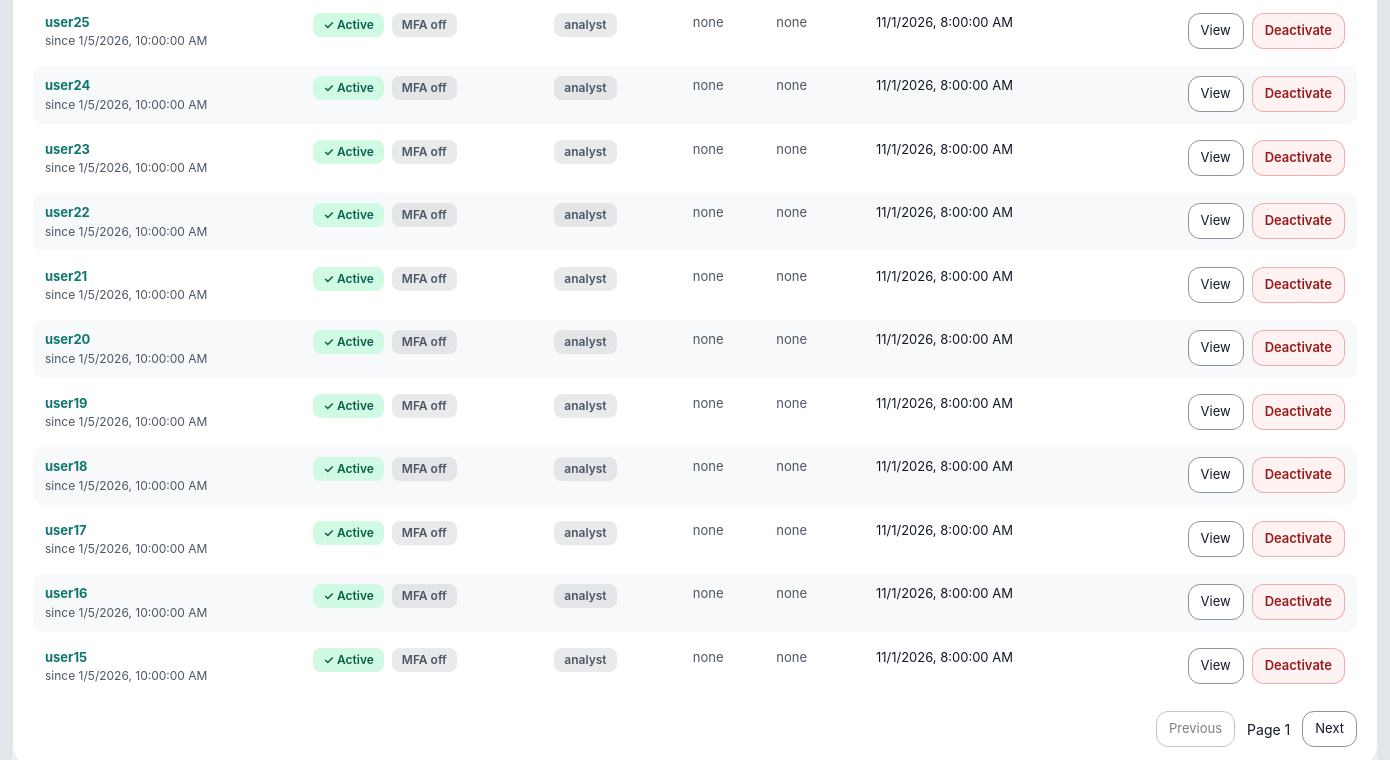
IAM users list › pages through results with Next and Previous
(page scrolled)
Expected: the link "user10" is not shown
What coordinates should you click on to do the following:
click the button "Next"
I would click on:
 (1330, 729)
Its box is [1302,711,1357,747].
(page scrolled)
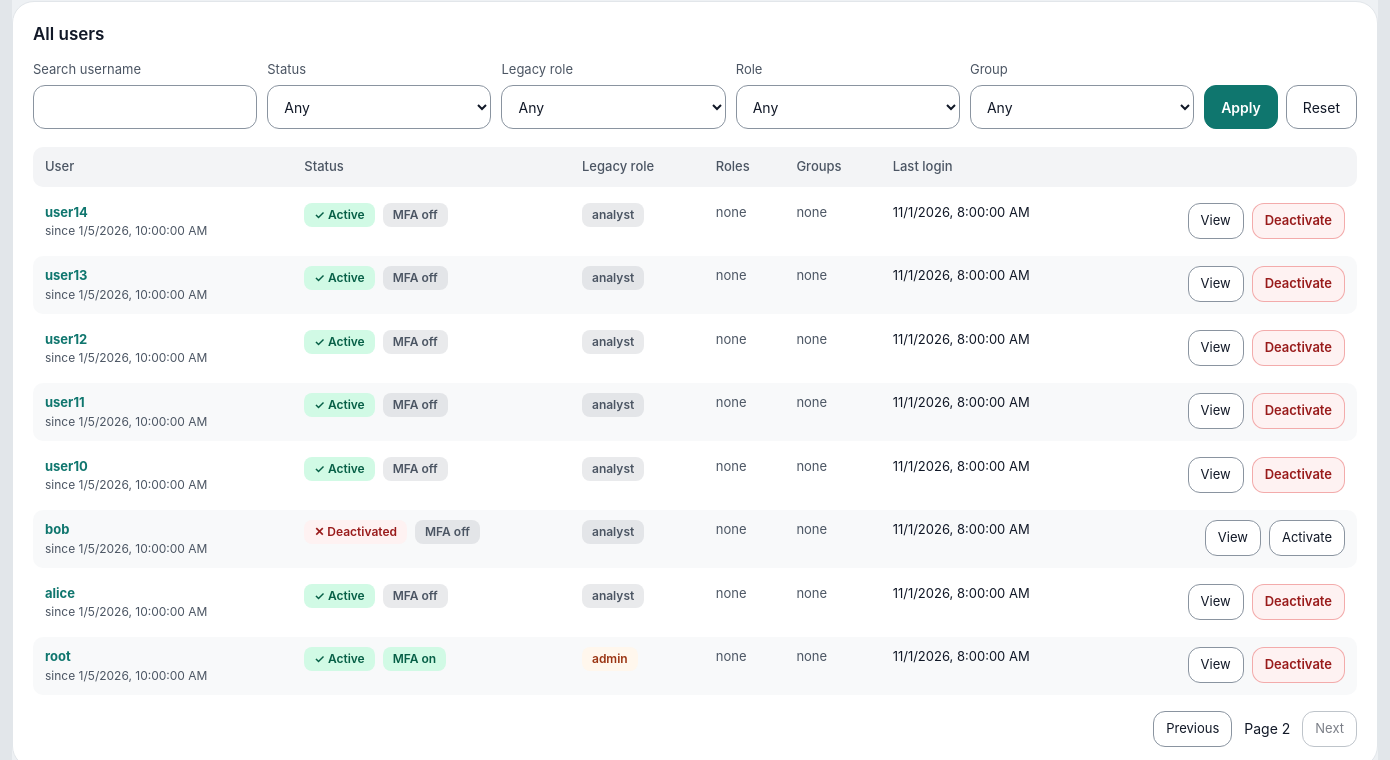
Now the link "user10" is shown, box [45,458,88,474]
Now the text "Page 2" is shown, box [1244,718,1290,739]
Now the button "Next" is disabled, box [1302,710,1357,746]
What coordinates should you click on to do the following:
click the button "Previous"
I would click on:
 (1193, 728)
Its box is [1153,710,1232,746].
(page scrolled)
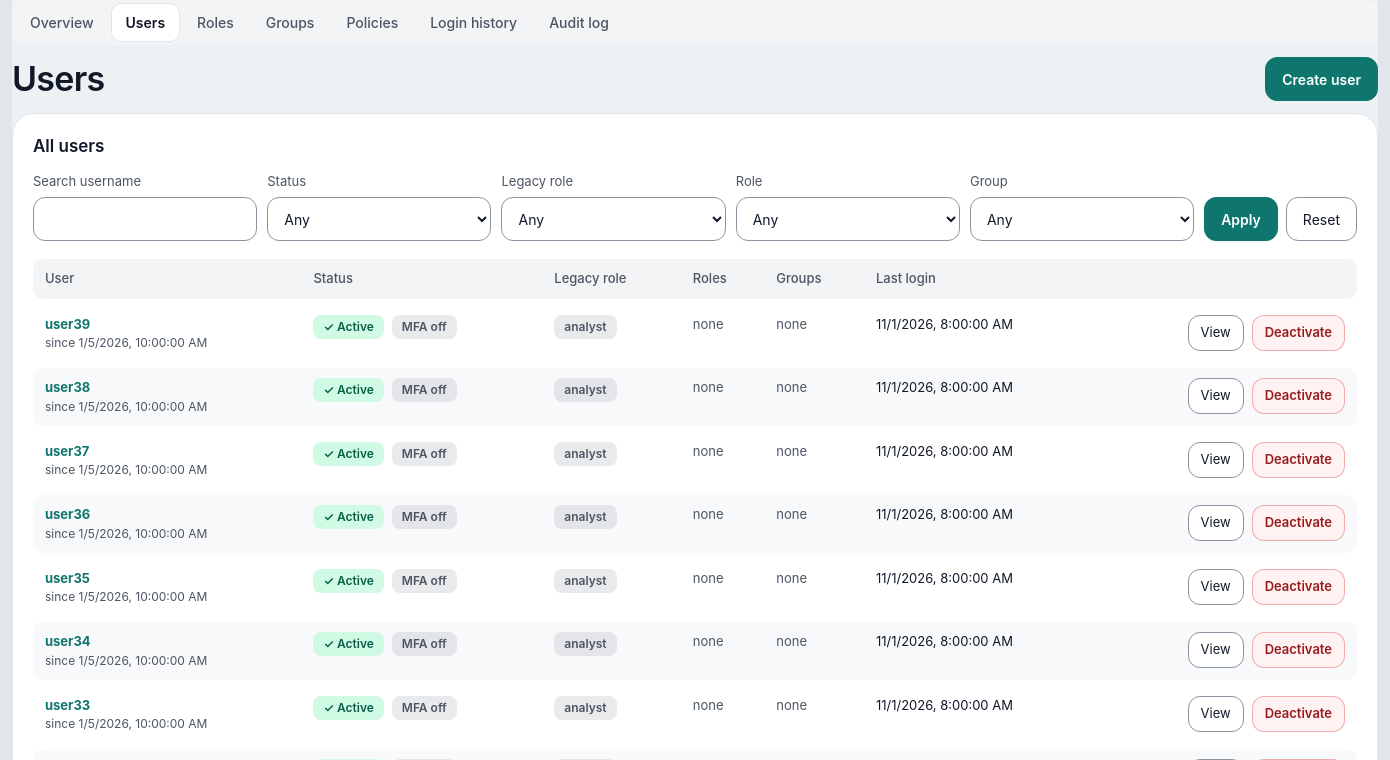
Now the link "user39" is shown, box [45,316,90,332]
